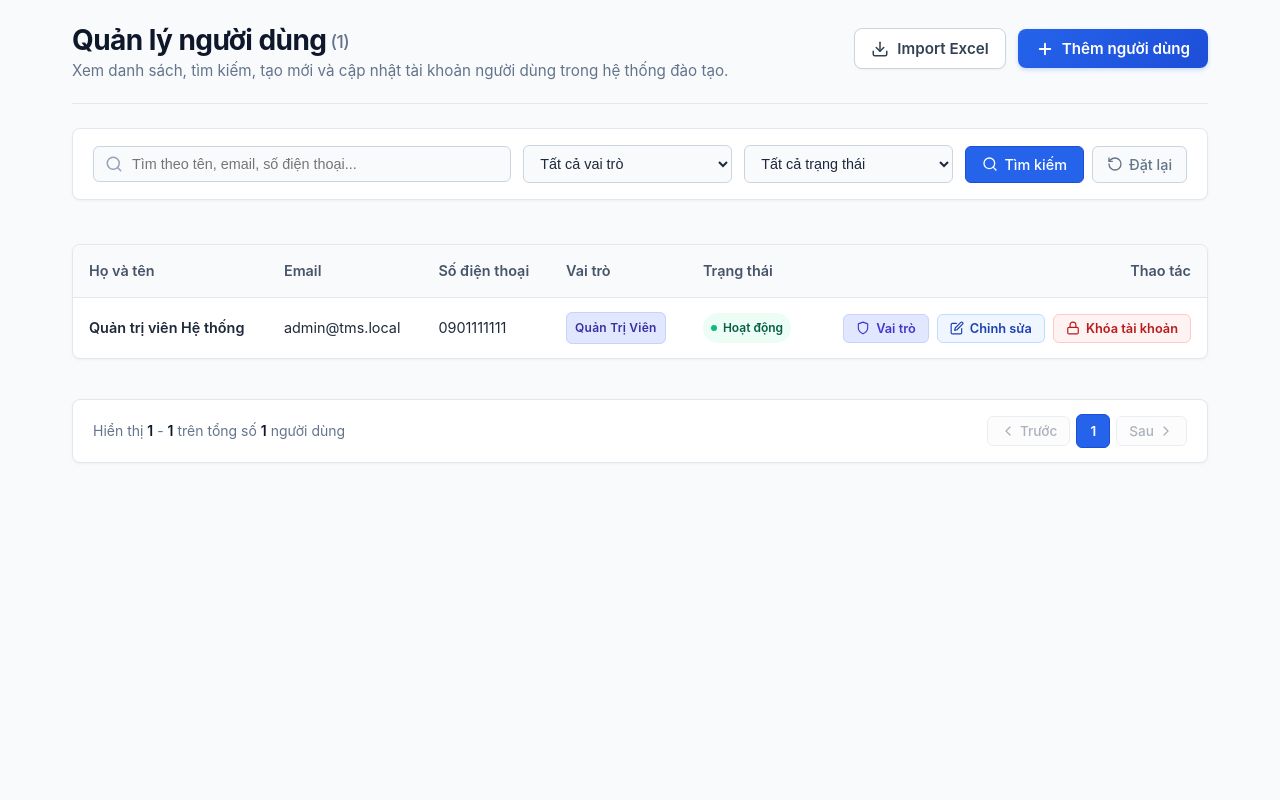
SCRUM-110: Kiểm thử tổng thể giao diện khóa và mở khóa tài khoản (UI Overall Test Matrix) › B. Lock Operation Matrix › 4. hiển thị modal xác nhận khóa với cảnh báo thu hồi phiên rõ ràng
Click the button with test id "btn-lock-user-u-admin-1" at (1122, 328), box x1=1053 y1=314 x2=1191 y2=343
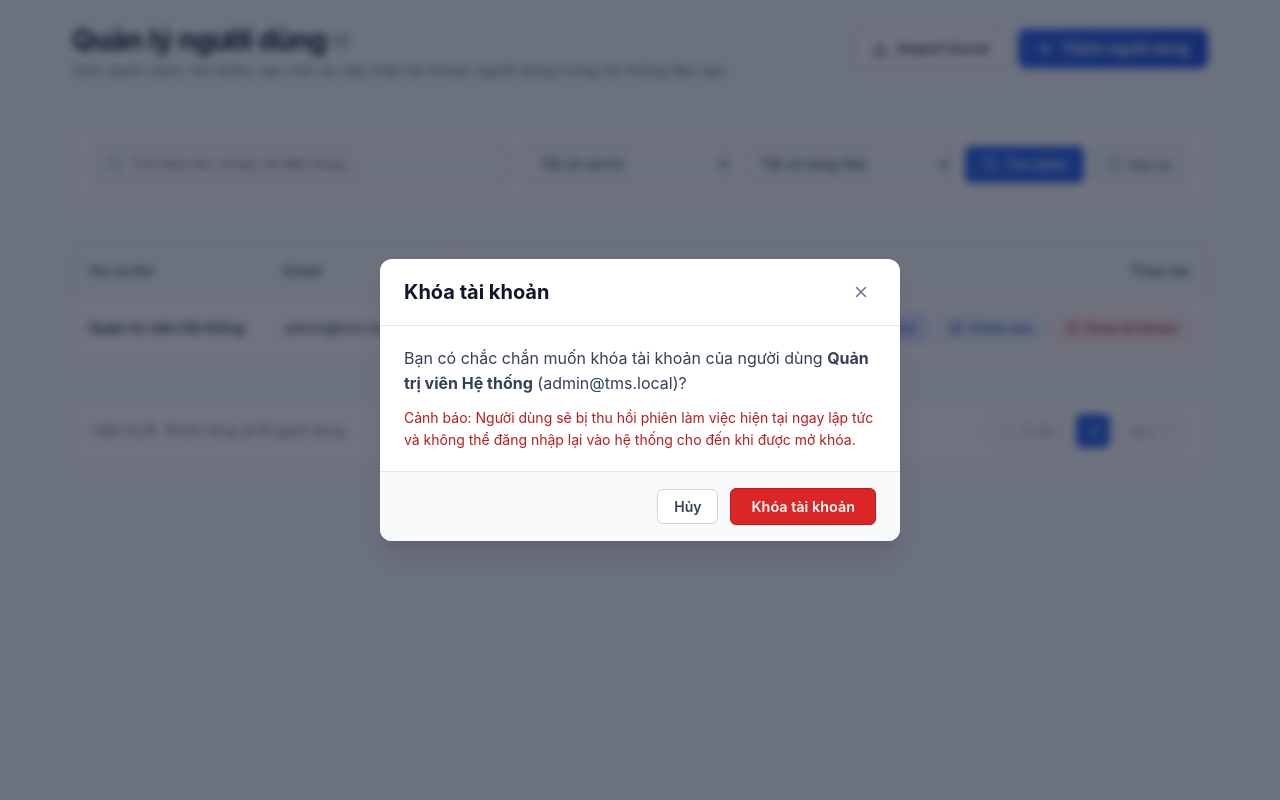
Result: the dialog with test id "account-lock-modal" is shown at x1=380 y1=258 x2=900 y2=542
Result: the heading "Khóa tài khoản" is shown at x1=404 y1=280 x2=549 y2=304
Result: the text with test id "lock-user-name" reads "Quản trị viên Hệ thống" at x1=404 y1=348 x2=869 y2=393
